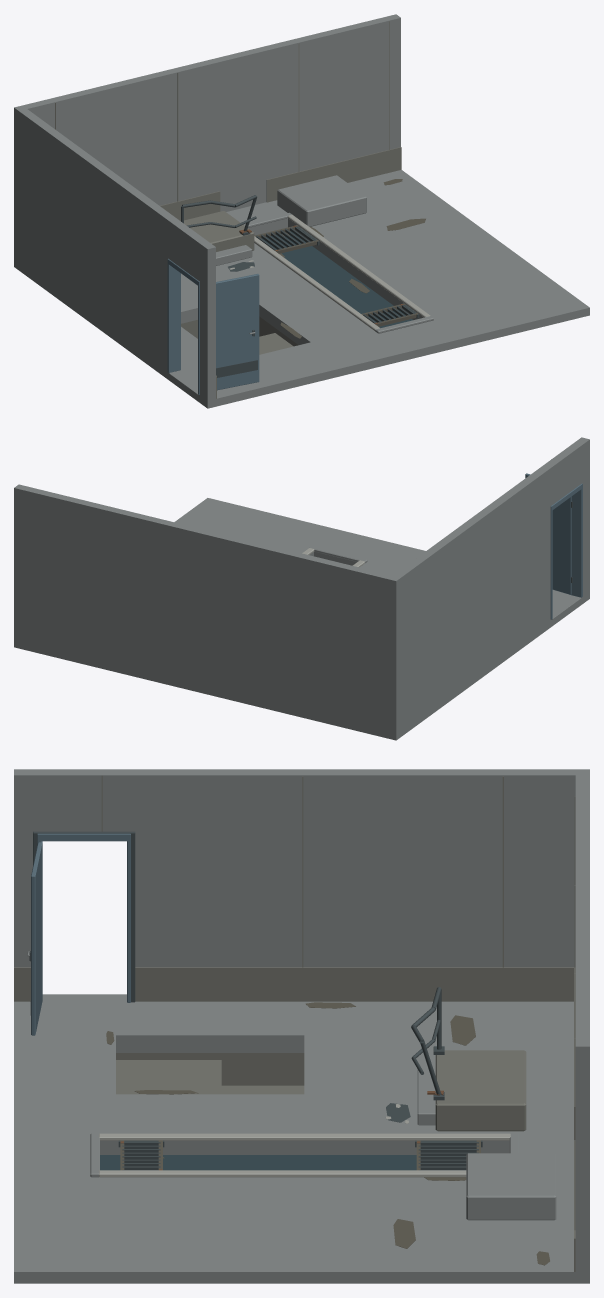
File: WaterworksL02_Architecture.fbx
3 renders of one model, top to bottom at view 1: azimuth 30°, elevation 25°; view 2: azimuth 150°, elevation 25°; view 3: azimuth 270°, elevation 25°, orthographic. The views are drawn at different scales.
Visible parts, largest first — view 1: L02_BackWall, L02_Floor, L02_LeftWall, L02_MaintenancePlatforms, L02_ServiceDoor, L02_ConcreteJoints, L02_ShallowWater, L02_ChannelEdges, L02_GratesAndSupports, L02_ServiceDoorFrame, L02_DamagedRailing; view 2: L02_BackWall, L02_LeftWall, L02_Floor, L02_ServiceDoor, L02_ServiceDoorFrame, L02_ChannelEdges; view 3: L02_Floor, L02_LeftWall, L02_ConcreteJoints, L02_MaintenancePlatforms, L02_BackWall, L02_ChannelEdges, L02_ShallowWater, L02_GratesAndSupports, L02_ServiceDoorFrame, L02_LocalizedSediment, L02_ServiceDoor, L02_DamagedRailing.
Part boxes in pixels (x1,y1,x2,y2): L02_BackWall: (14, 14, 400, 262); L02_Floor: (14, 170, 589, 408); L02_LeftWall: (19, 109, 215, 400); L02_MaintenancePlatforms: (184, 175, 366, 265); L02_ServiceDoor: (216, 273, 259, 390); L02_ConcreteJoints: (55, 21, 401, 398); L02_ShallowWater: (261, 231, 412, 328); L02_ChannelEdges: (243, 212, 433, 333); L02_GratesAndSupports: (254, 225, 419, 326); L02_ServiceDoorFrame: (167, 258, 199, 394); L02_DamagedRailing: (181, 195, 257, 235); L02_BackWall: (14, 484, 400, 732); L02_LeftWall: (393, 437, 589, 728); L02_Floor: (14, 498, 589, 740); L02_ServiceDoor: (525, 473, 572, 594); L02_ServiceDoorFrame: (550, 483, 582, 619); L02_ChannelEdges: (302, 546, 367, 567); L02_Floor: (14, 994, 589, 1283); L02_LeftWall: (14, 769, 575, 967); L02_ConcreteJoints: (14, 775, 575, 1271); L02_MaintenancePlatforms: (417, 1050, 556, 1220); L02_BackWall: (575, 769, 589, 1271); L02_ChannelEdges: (90, 1133, 519, 1177); L02_ShallowWater: (100, 1155, 416, 1170); L02_GratesAndSupports: (118, 1140, 482, 1170); L02_ServiceDoorFrame: (33, 831, 135, 1002); L02_LocalizedSediment: (106, 1002, 549, 1265); L02_ServiceDoor: (27, 841, 42, 1035); L02_DamagedRailing: (411, 987, 444, 1100).
Bounding box in the file's own units: 8.2 × 3.9 × 7.18.
